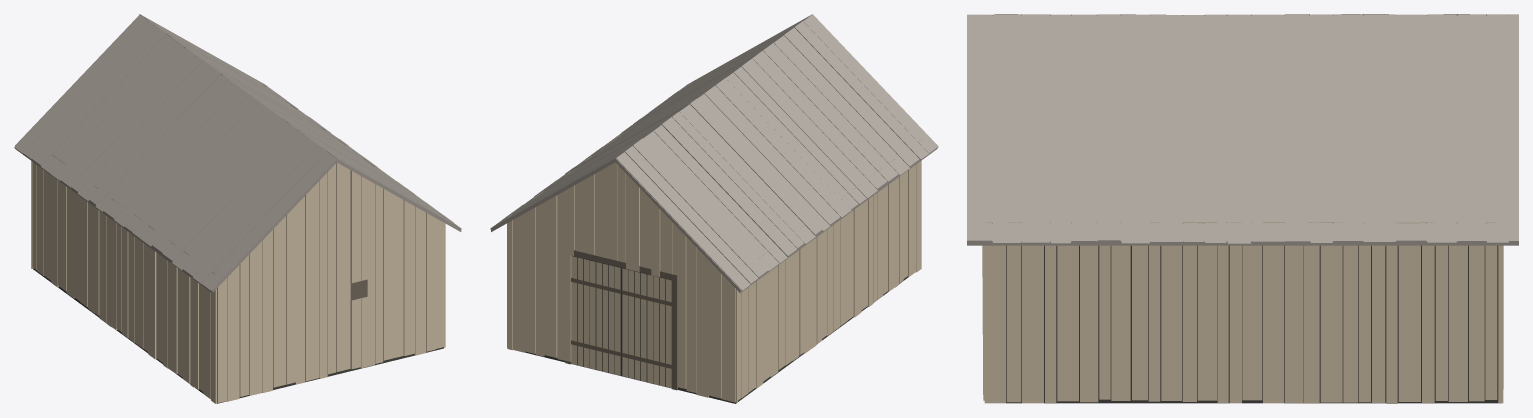
Rendered from recon_1835_south_w1_023__inferred_1835.glb.
The picture shows the model from 3 angles, left to right: view 1: azimuth 30°, elevation 25°; view 2: azimuth 150°, elevation 25°; view 3: azimuth 270°, elevation 25°; orthographic projection. The views are drawn at different scales.
Parts seen in each view (by area): view 1: recon_1835_south_w1_023__inferred_1835; view 2: recon_1835_south_w1_023__inferred_1835; view 3: recon_1835_south_w1_023__inferred_1835.
Part boxes in pixels (left/top/right/bottom): recon_1835_south_w1_023__inferred_1835: left=14, top=14, right=461, bottom=403; recon_1835_south_w1_023__inferred_1835: left=490, top=14, right=938, bottom=403; recon_1835_south_w1_023__inferred_1835: left=967, top=14, right=1518, bottom=403.
Bounding box in the file's own units: 7.27 × 6.13 × 9.83.
